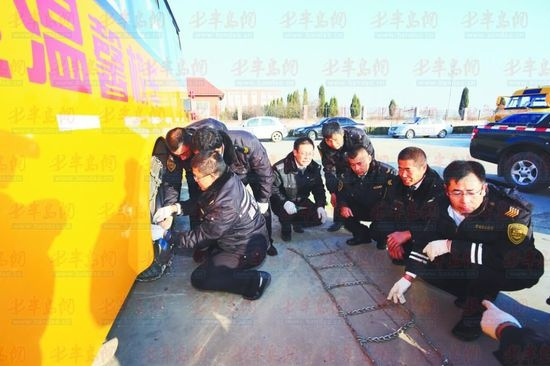falling: (472, 276, 550, 366)
